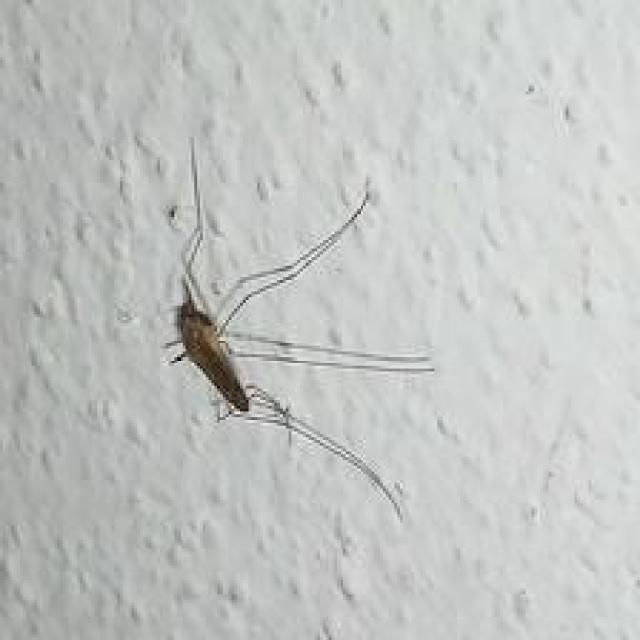Culex: (161, 136, 436, 524)
